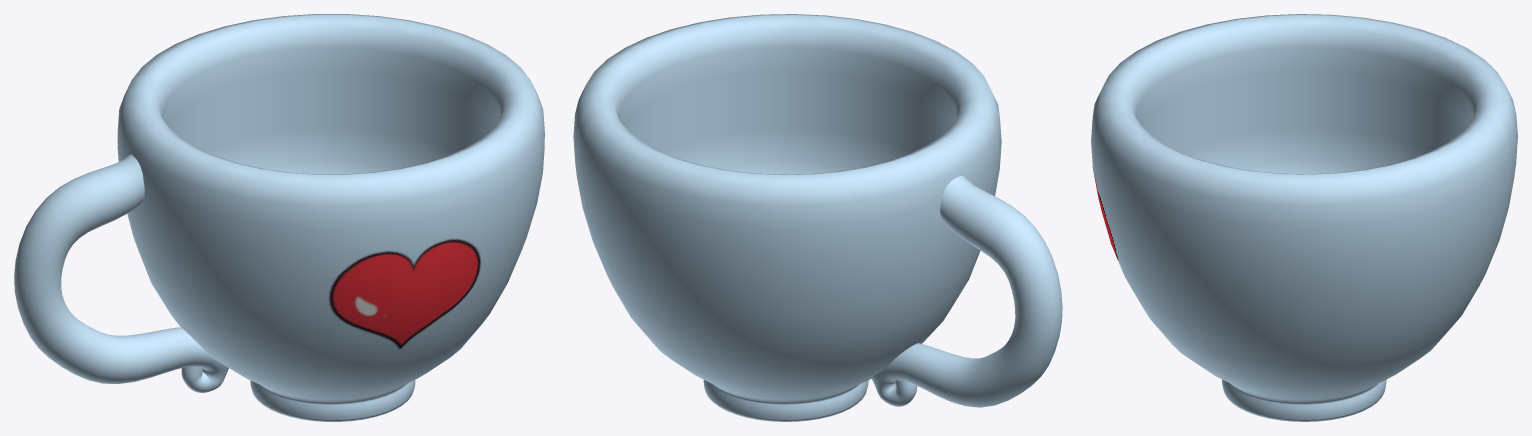
File: section_1.glb
3 renders of one model, left to right at view 1: azimuth 30°, elevation 25°; view 2: azimuth 150°, elevation 25°; view 3: azimuth 270°, elevation 25°, orthographic.
Parts seen in each view (by area): view 1: LogoPart_2; view 2: LogoPart_2; view 3: LogoPart_2.
Boxes of the visible parts, x1,y1,x2,y2 form: LogoPart_2: [14, 14, 544, 421]; LogoPart_2: [573, 14, 1062, 421]; LogoPart_2: [1091, 14, 1517, 421].
Size of what is drawn, in the model's own units: 0.1163 by 0.0686 by 0.0902.
Materials: 1 (1 with a texture image).
